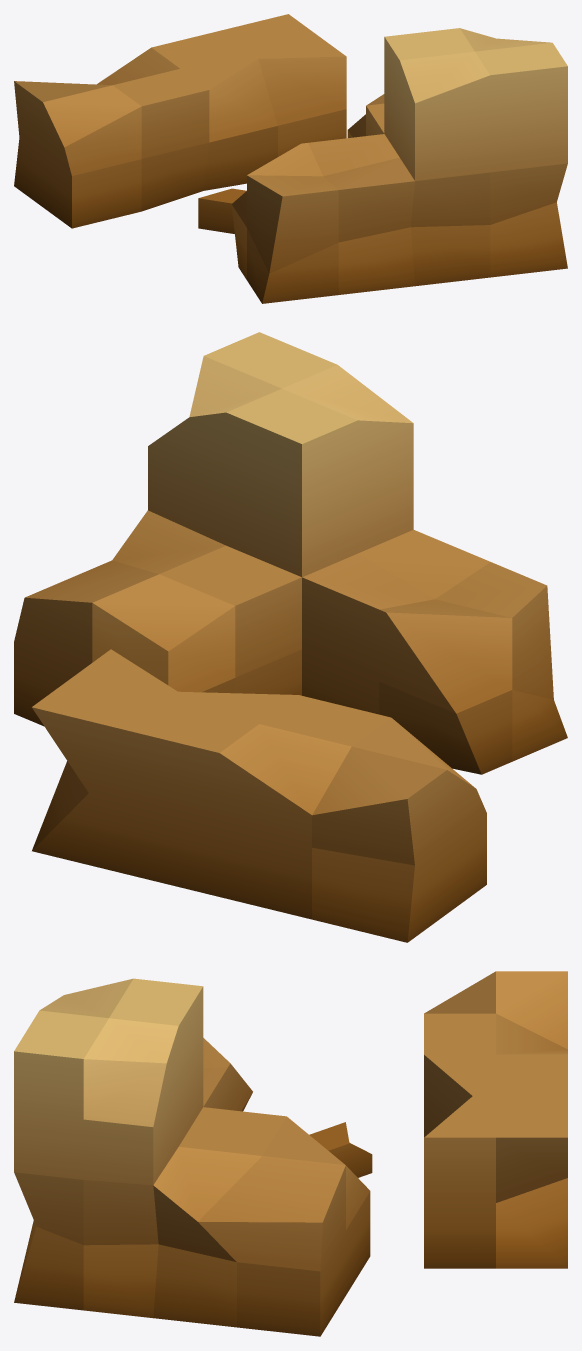
The model's file is ruins_01.fbx.
The picture shows the model from 3 angles, top to bottom: view 1: azimuth 30°, elevation 25°; view 2: azimuth 150°, elevation 25°; view 3: azimuth 270°, elevation 25°; orthographic projection. The views are drawn at different scales.
Visible parts, largest first — view 1: ruins_01; view 2: ruins_01; view 3: ruins_01.
Part boxes in pixels (x1=…): ruins_01: x1=14, y1=14, x2=567, y2=303; ruins_01: x1=14, y1=332, x2=567, y2=942; ruins_01: x1=14, y1=971, x2=567, y2=1336.
Size of the model in its own units: 181 by 90.28 by 180.
